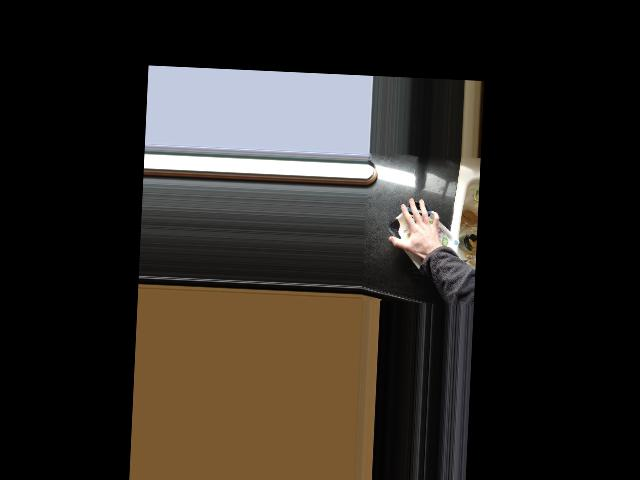cheese: (385, 197, 464, 276)
